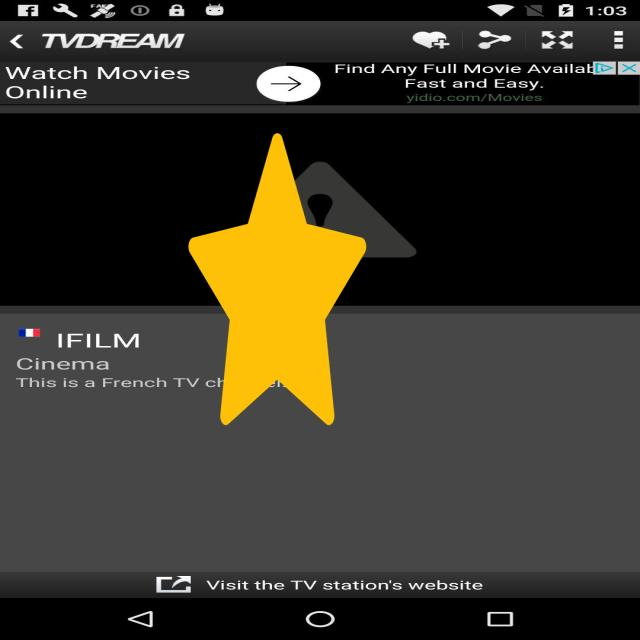forced continuity: (188, 133, 366, 425)
